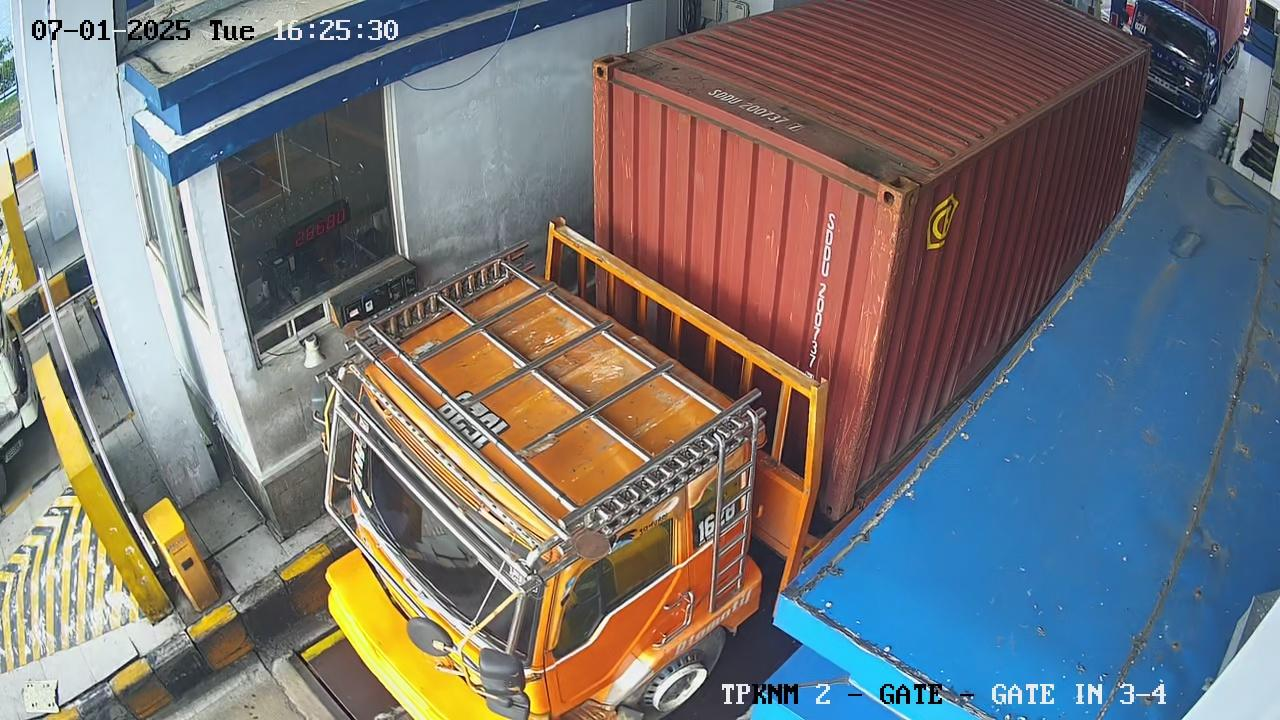Container_ID: (689, 74, 832, 147)
Container_ID_Vertikal: (793, 205, 848, 384)
truck_id: (419, 385, 521, 460), (694, 481, 752, 558)
